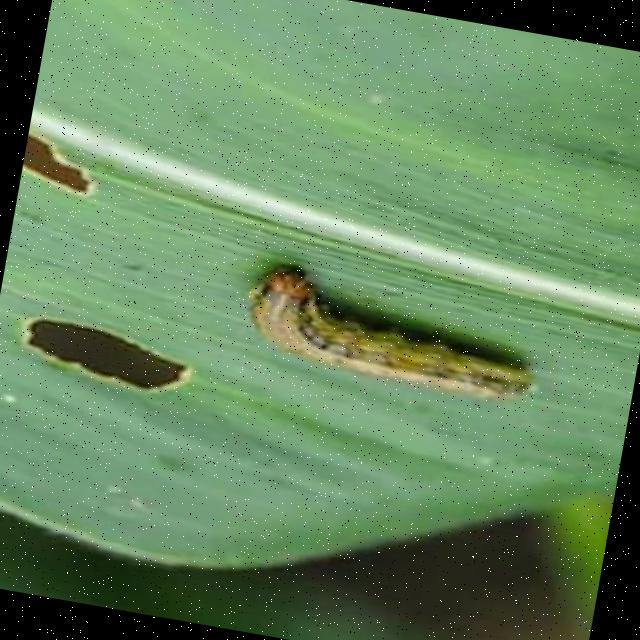worm: (237, 260, 550, 412)
